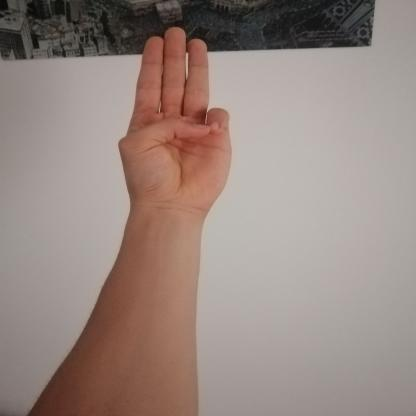THA: (101, 16, 248, 225)
